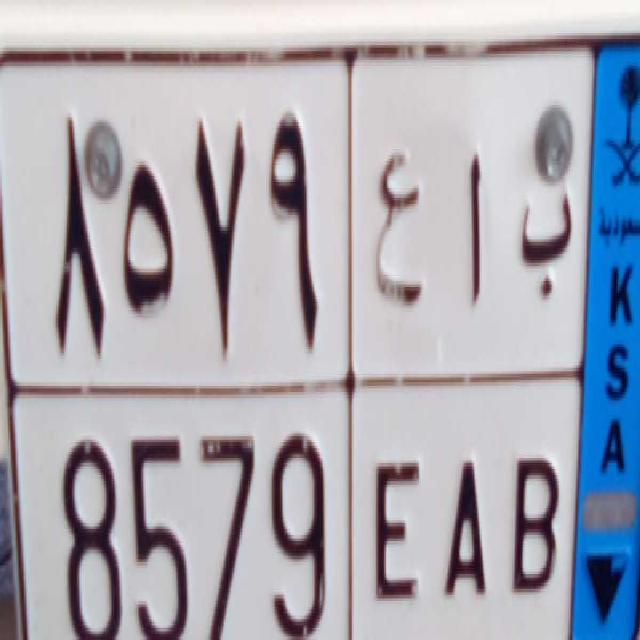license_plate: (37, 372, 567, 640)
